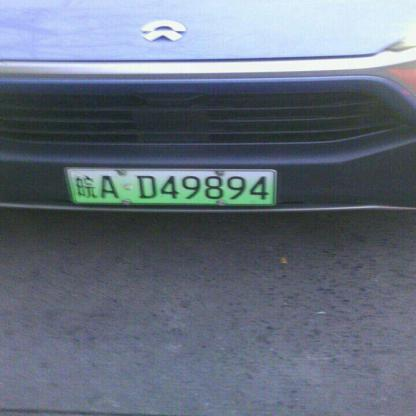lp: (64, 168, 277, 204)
